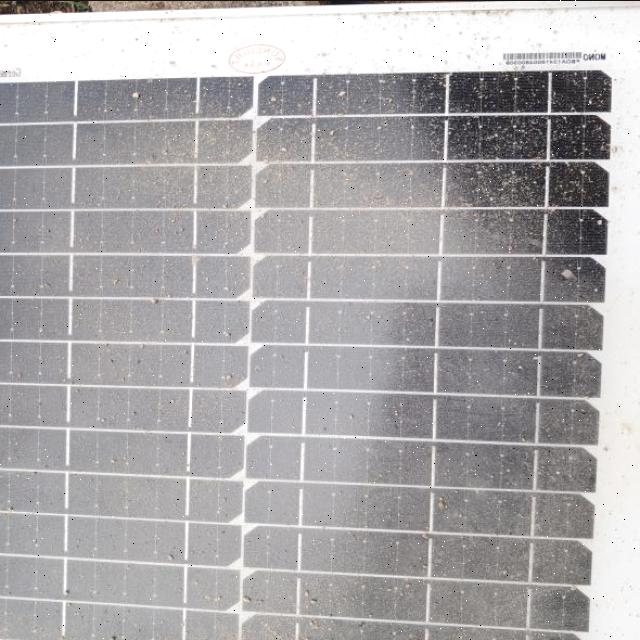Anomaly Solar Panel: (0, 30, 640, 640)
Surface Contaminant: (4, 77, 622, 640)
